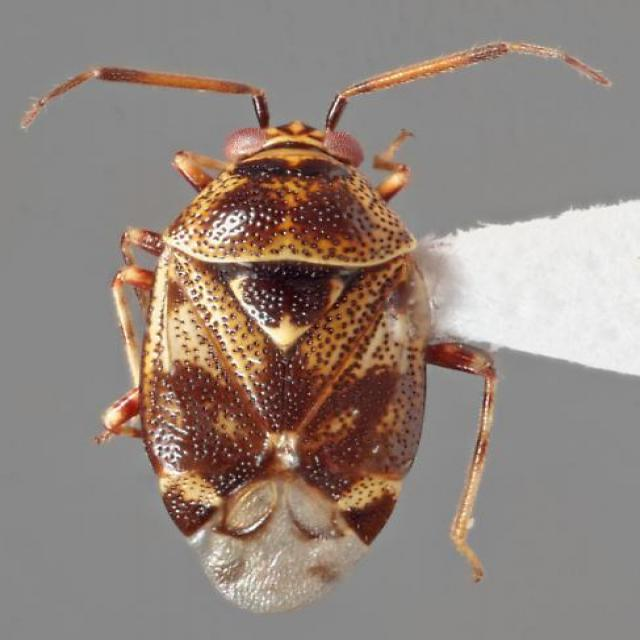Miridae-Adult-: (17, 34, 619, 614)
